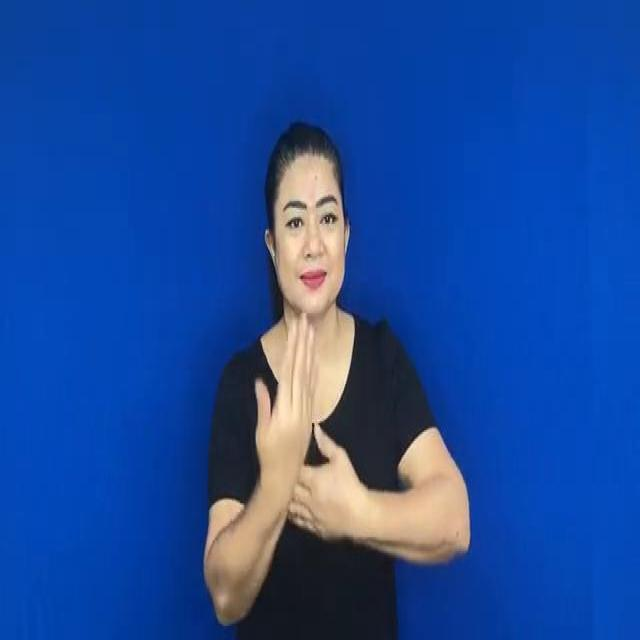bread: (256, 322, 370, 567)
